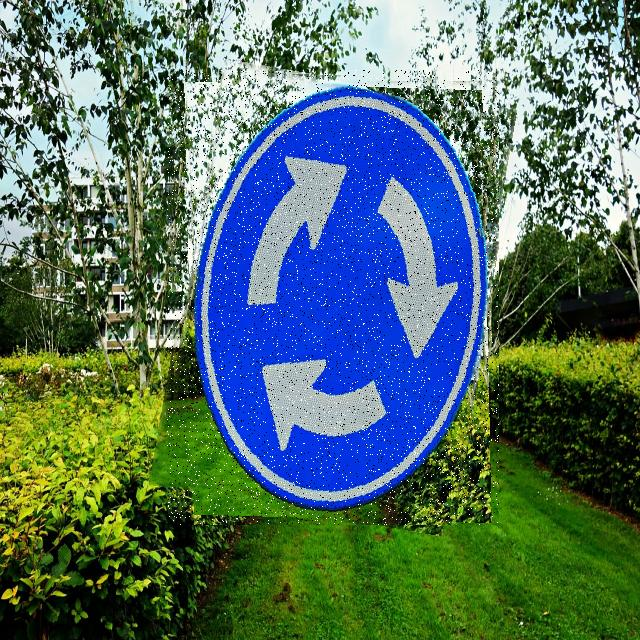roundabout: (167, 70, 499, 525)
